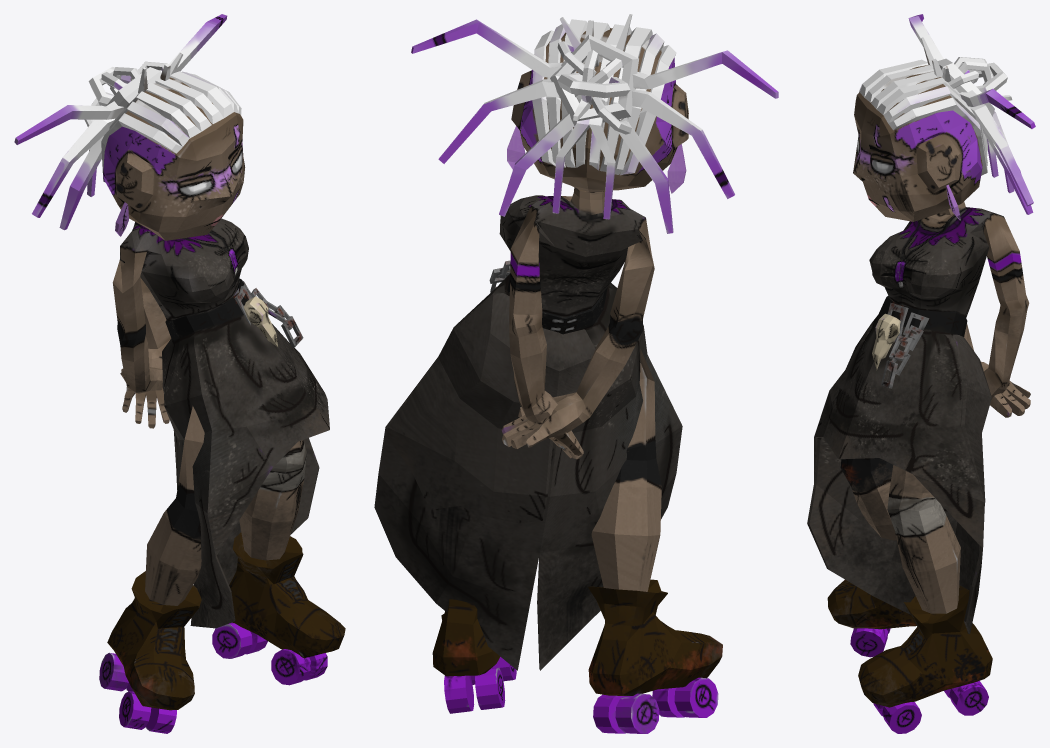
Rendered from bruja_000024.obj.
3 renders of one model, left to right at view 1: azimuth 30°, elevation 25°; view 2: azimuth 150°, elevation 25°; view 3: azimuth 270°, elevation 25°, orthographic. The views are drawn at different scales.
Visible parts, largest first — view 1: Bruja_Plane.001; view 2: Bruja_Plane.001; view 3: Bruja_Plane.001.
Boxes of the visible parts, x1=… form: Bruja_Plane.001: x1=14, y1=14, x2=345, y2=733; Bruja_Plane.001: x1=374, y1=14, x2=778, y2=733; Bruja_Plane.001: x1=807, y1=14, x2=1035, y2=733.
Size of the model in its own units: 8.62 by 16 by 5.32.
